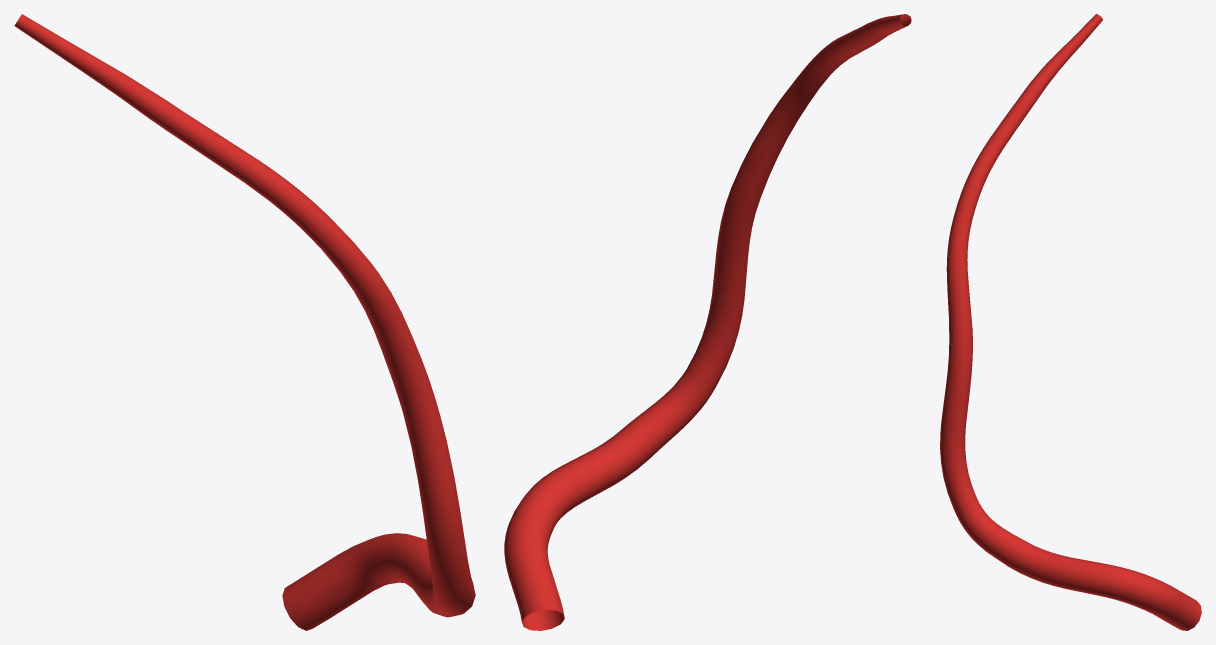
File: circulatorio-frontal-branches-of-callosomarginal-artery-r.glb
3 renders of one model, left to right at view 1: azimuth 30°, elevation 25°; view 2: azimuth 150°, elevation 25°; view 3: azimuth 270°, elevation 25°, orthographic. The views are drawn at different scales.
Parts seen in each view (by area): view 1: Frontal branches of callosomarginal artery.r; view 2: Frontal branches of callosomarginal artery.r; view 3: Frontal branches of callosomarginal artery.r.
Boxes of the visible parts, x1,y1,x2,y2 form: Frontal branches of callosomarginal artery.r: (14,14,475,630); Frontal branches of callosomarginal artery.r: (504,14,911,630); Frontal branches of callosomarginal artery.r: (940,14,1201,630).
Size of the model in its own units: 0.0139 by 0.0231 by 0.0109.
